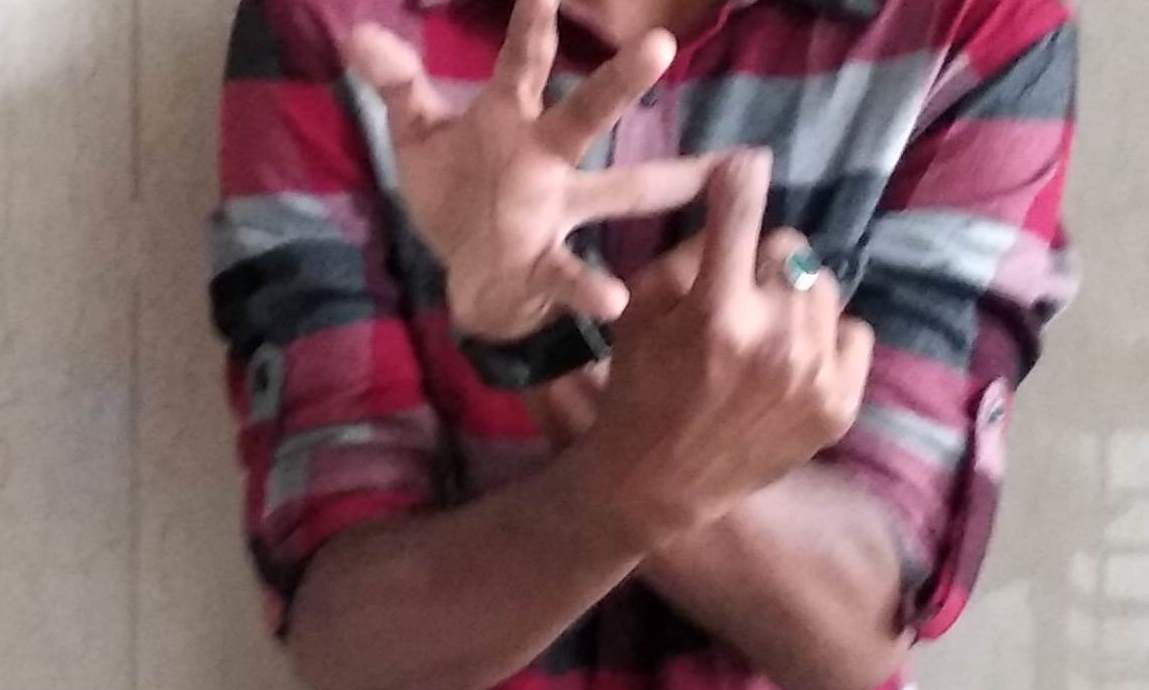e: (459, 26, 882, 397)
